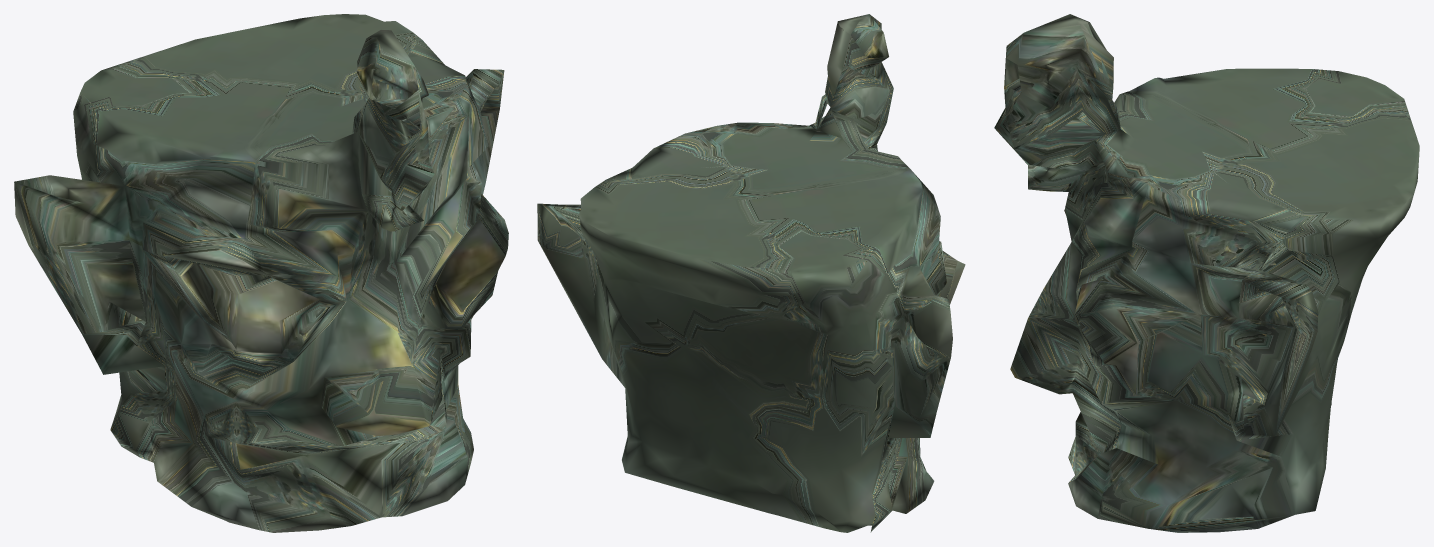
The model's file is s_mask_far.glb.
The picture shows the model from 3 angles, left to right: view 1: azimuth 30°, elevation 25°; view 2: azimuth 150°, elevation 25°; view 3: azimuth 270°, elevation 25°; orthographic projection. The views are drawn at different scales.
Parts seen in each view (by area): view 1: tripo_node_819a9f8f-171c-4b09-9b2b-62c882b06655; view 2: tripo_node_819a9f8f-171c-4b09-9b2b-62c882b06655; view 3: tripo_node_819a9f8f-171c-4b09-9b2b-62c882b06655.
Boxes of the visible parts, x1,y1,x2,y2 form: tripo_node_819a9f8f-171c-4b09-9b2b-62c882b06655: (14, 14, 508, 532); tripo_node_819a9f8f-171c-4b09-9b2b-62c882b06655: (537, 14, 965, 532); tripo_node_819a9f8f-171c-4b09-9b2b-62c882b06655: (994, 14, 1419, 532).
Bounding box in the file's own units: 0.9716 × 0.9331 × 0.784.
Materials: 1 (1 with a texture image).
